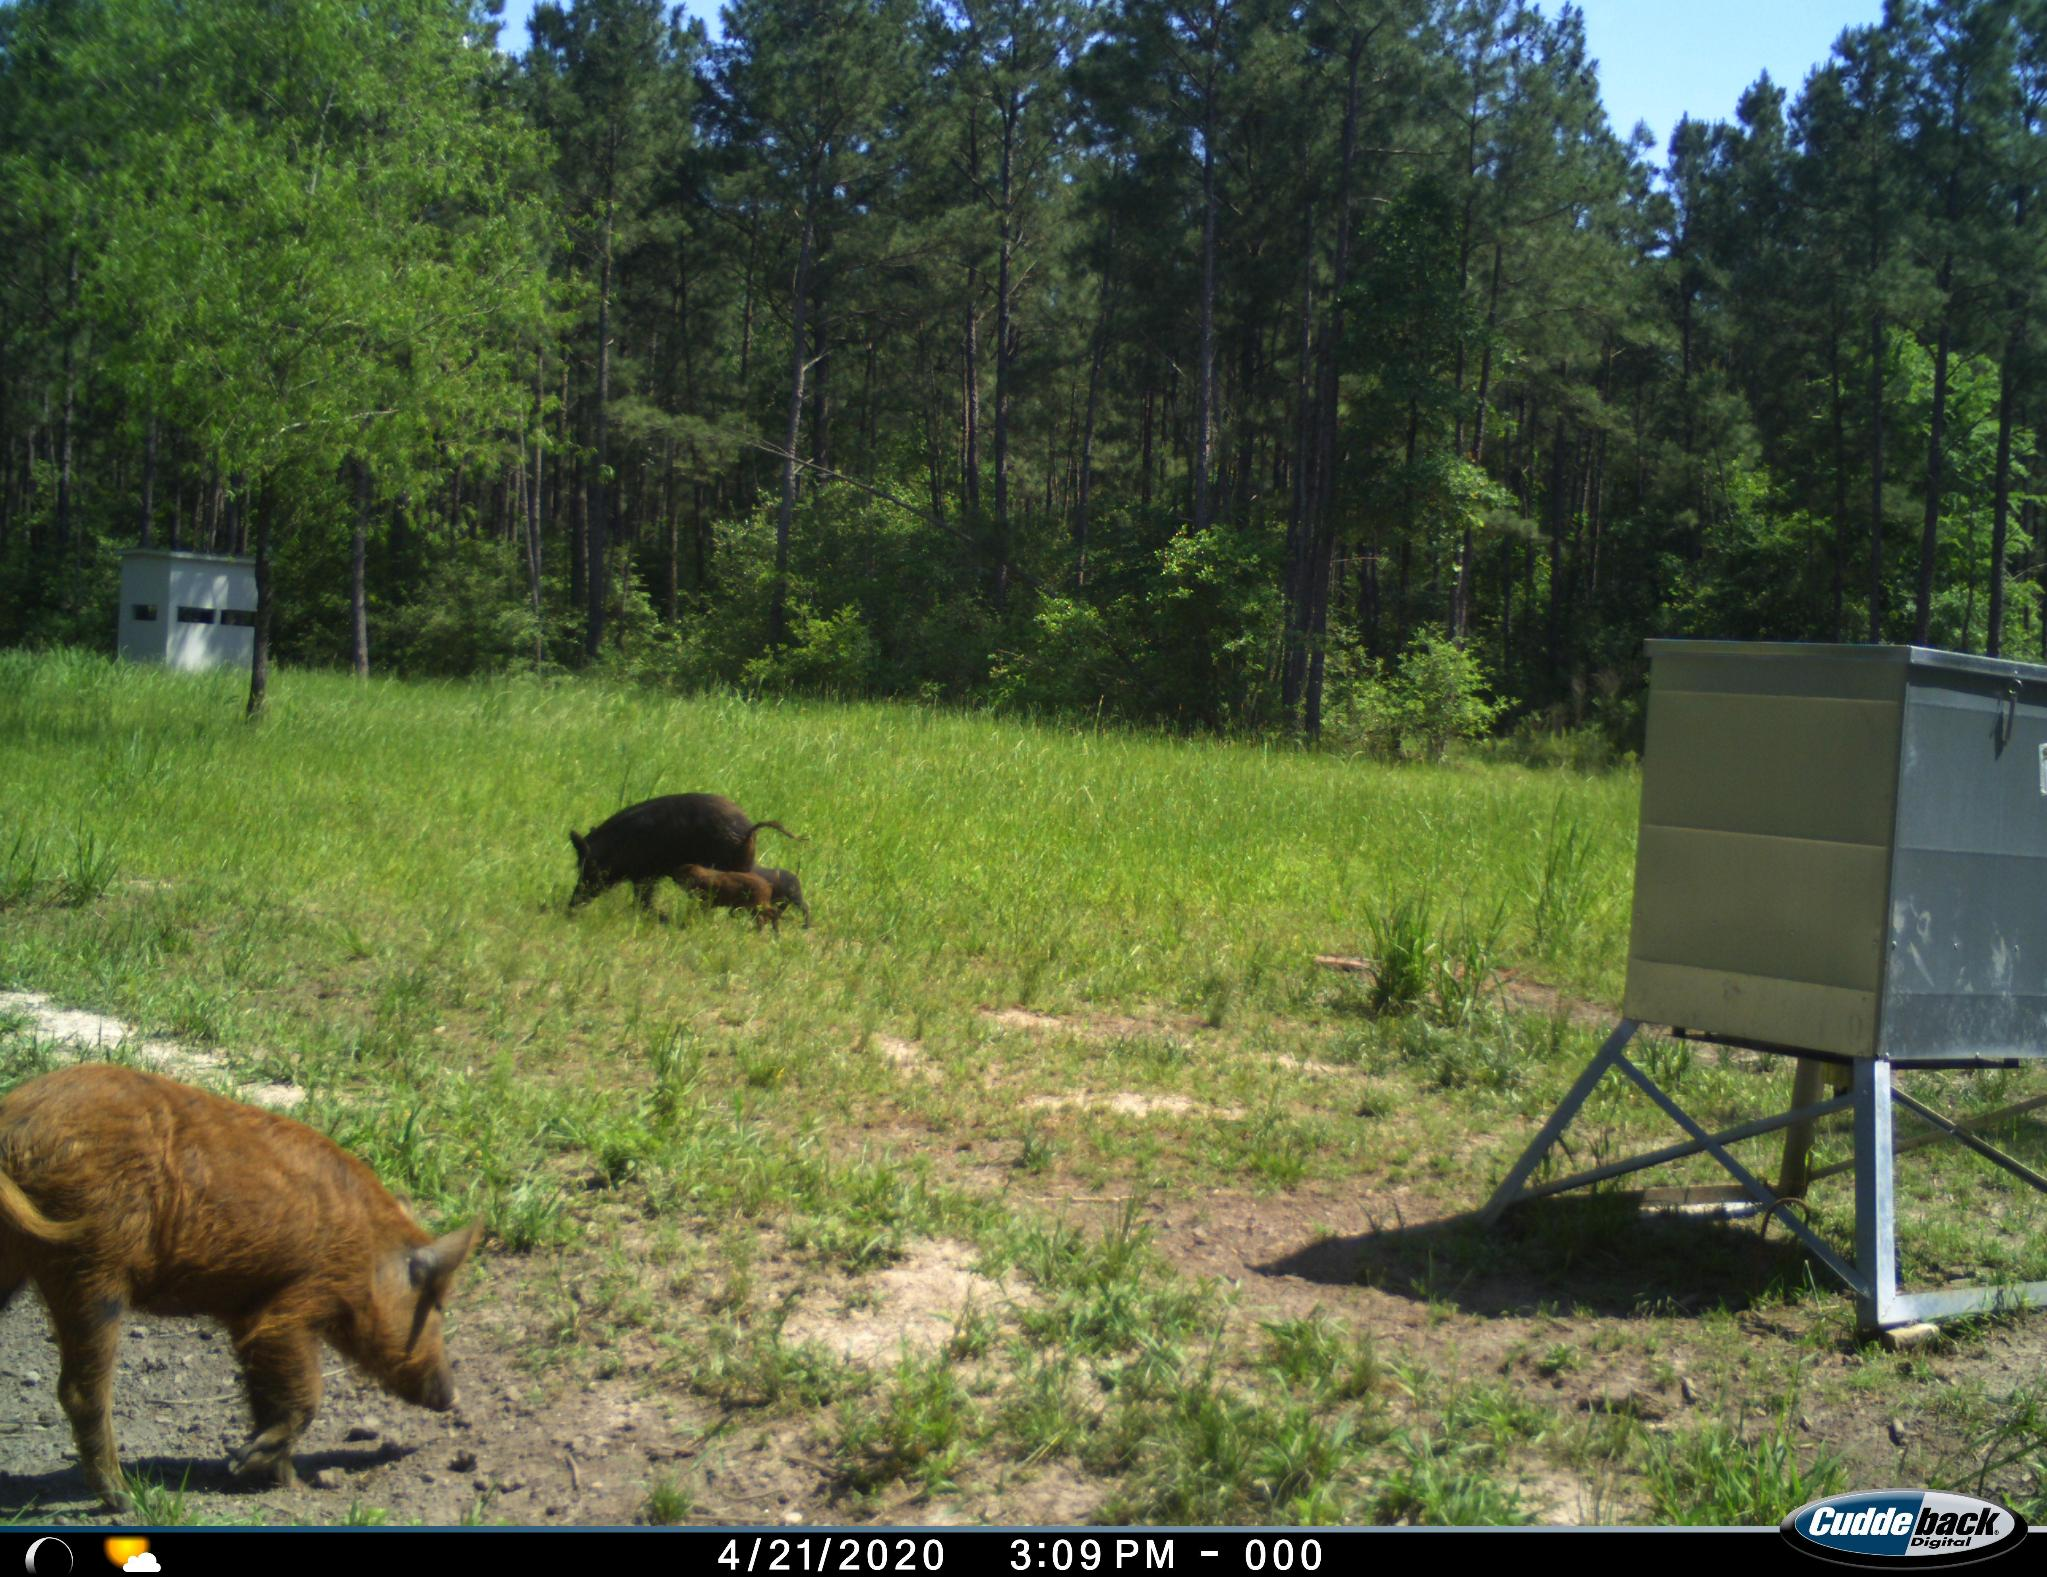Hog: (2, 1060, 499, 1497), (553, 784, 783, 929), (662, 853, 777, 934)
